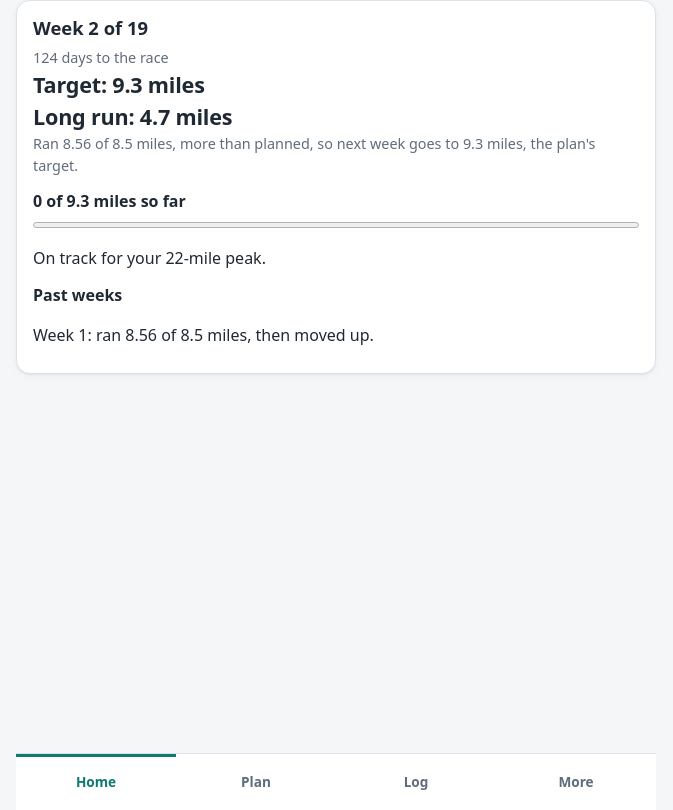
Test case: Dashboard: runs › lists the saved runs under the week
Expected: the navigation bar named "Main" is shown, left=16, top=753, right=656, bottom=809
Click the button "Log": (416, 782) left=336, top=754, right=496, bottom=809
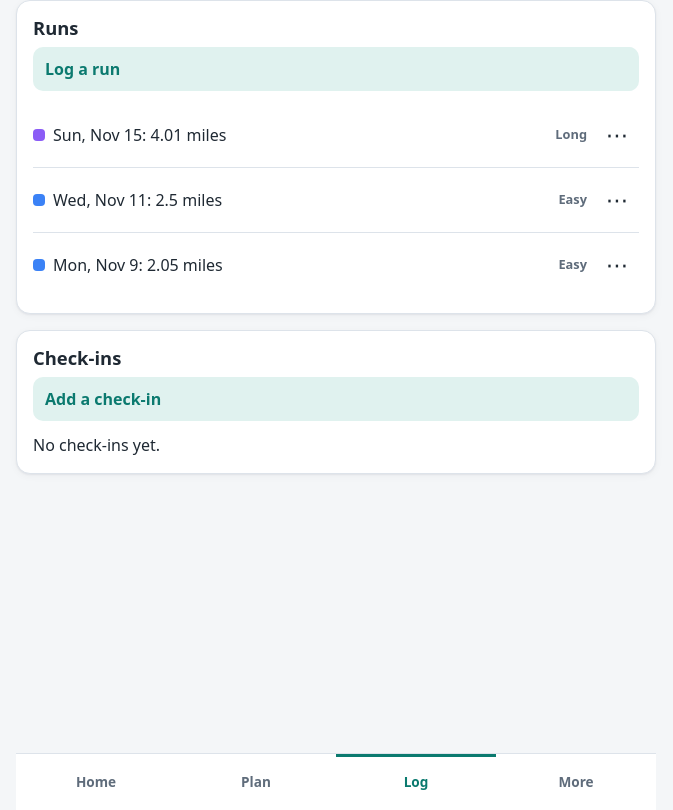
Expected: the button "Sun, Nov 15: 4.01 miles" is shown, left=53, top=117, right=547, bottom=153
Expected: the button "Mon, Nov 9: 2.05 miles" is shown, left=53, top=247, right=550, bottom=283
